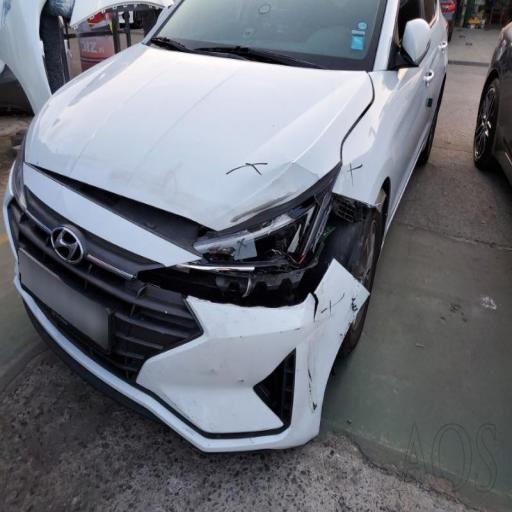broken: (181, 148, 386, 444)
dent: (39, 48, 136, 177)
